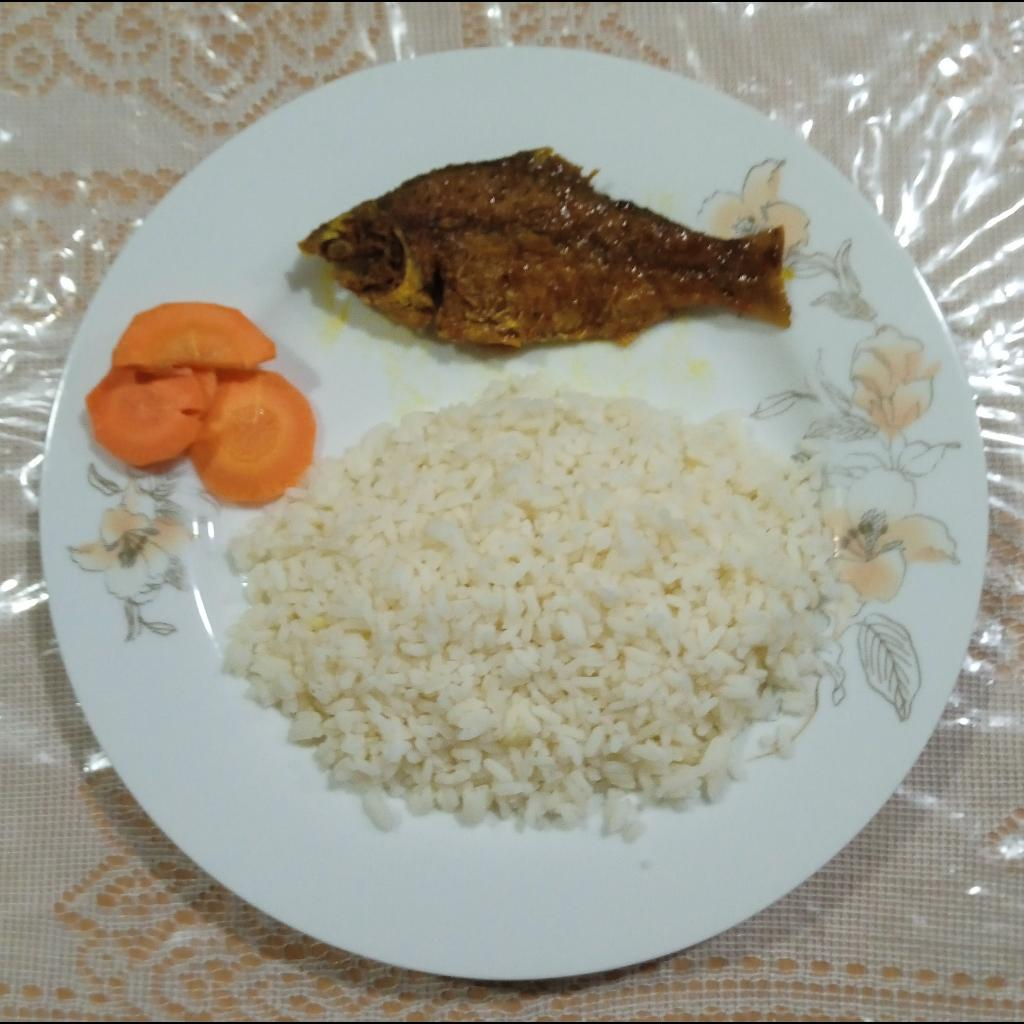carrot: (80, 298, 314, 506)
fish: (301, 146, 790, 349)
rice: (220, 360, 852, 836)
